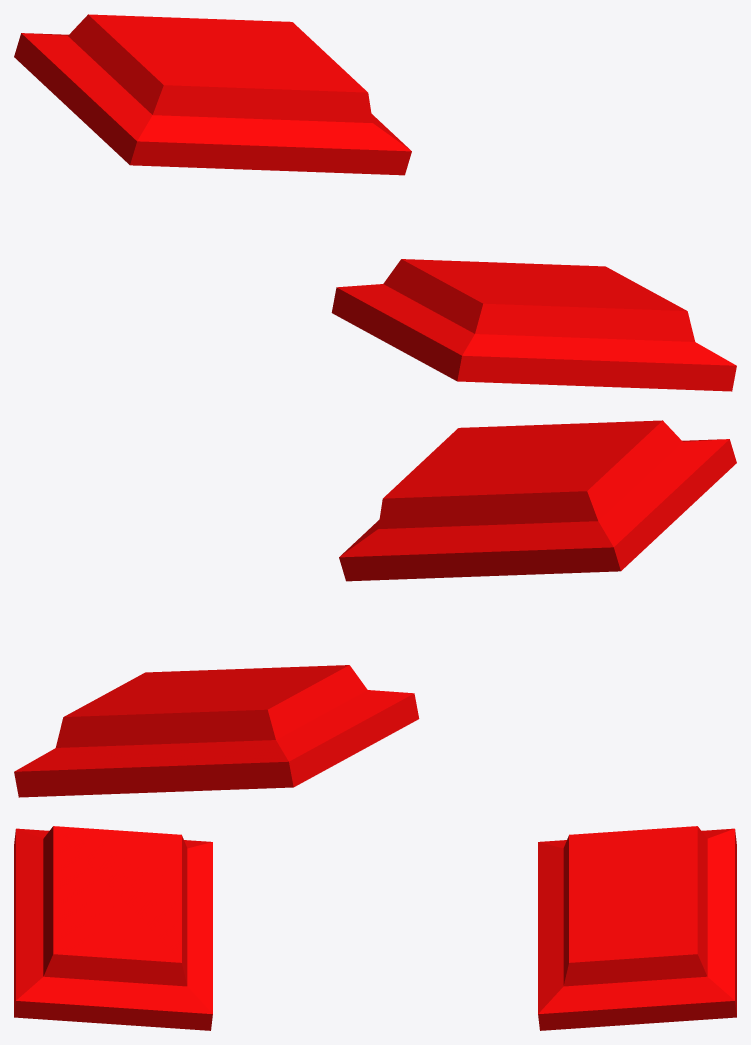
Rendered from Lampara Techo.FBX.
The picture shows the model from 3 angles, top to bottom: view 1: azimuth 30°, elevation 25°; view 2: azimuth 150°, elevation 25°; view 3: azimuth 270°, elevation 25°; orthographic projection. The views are drawn at different scales.
Visible parts, largest first — view 1: Lampara_Techo; view 2: Lampara_Techo; view 3: Lampara_Techo.
Part boxes in pixels (x1,y1,x2,y2): Lampara_Techo: (14, 14, 736, 391); Lampara_Techo: (14, 420, 736, 797); Lampara_Techo: (14, 826, 736, 1030).
Size of the model in its own units: 69.99 by 33.66 by 188.
